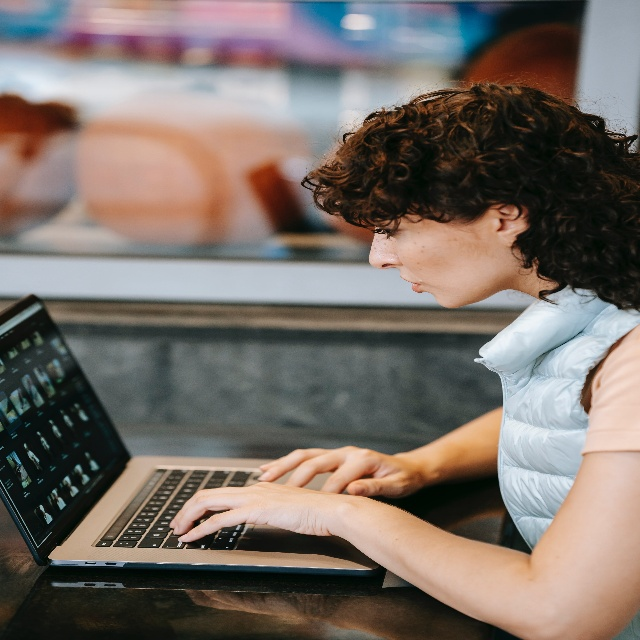Sin_guantes: (169, 481, 330, 543), (257, 445, 419, 499)
